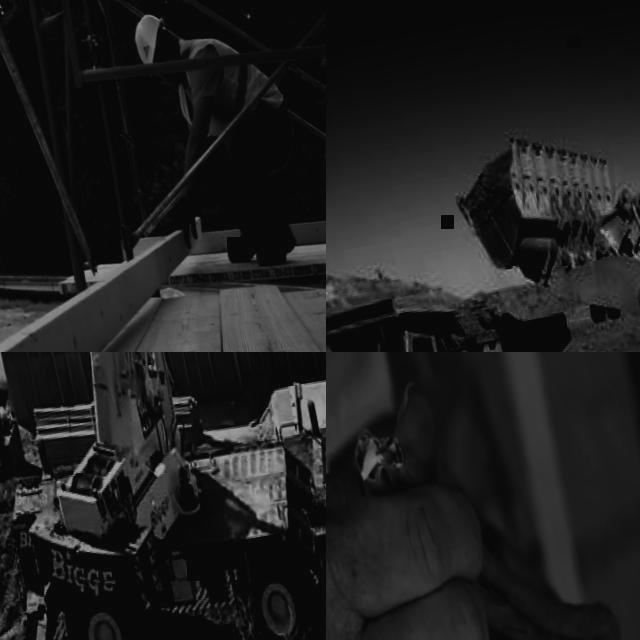helmet: (130, 11, 173, 78)
machinery: (0, 352, 326, 640), (442, 76, 640, 352), (326, 253, 613, 352)
no_mask: (160, 51, 182, 86)
person: (326, 352, 640, 640), (128, 0, 317, 283)
vest: (326, 352, 425, 619), (166, 20, 289, 141)
